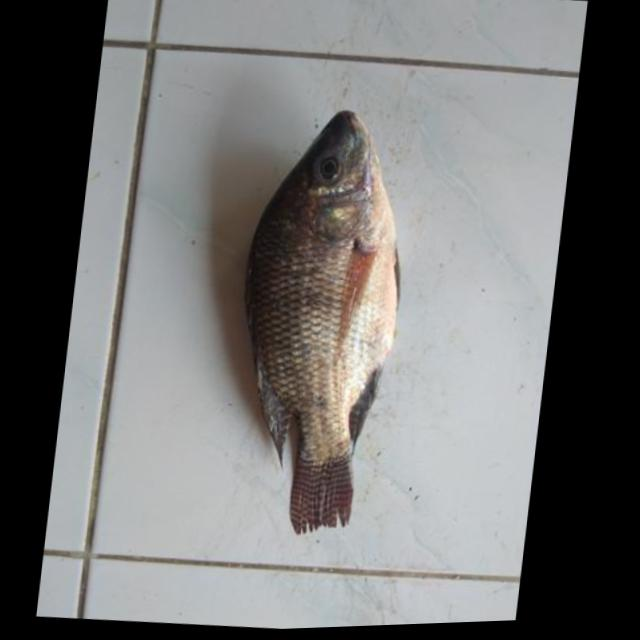Tilapia: (217, 99, 421, 541)
